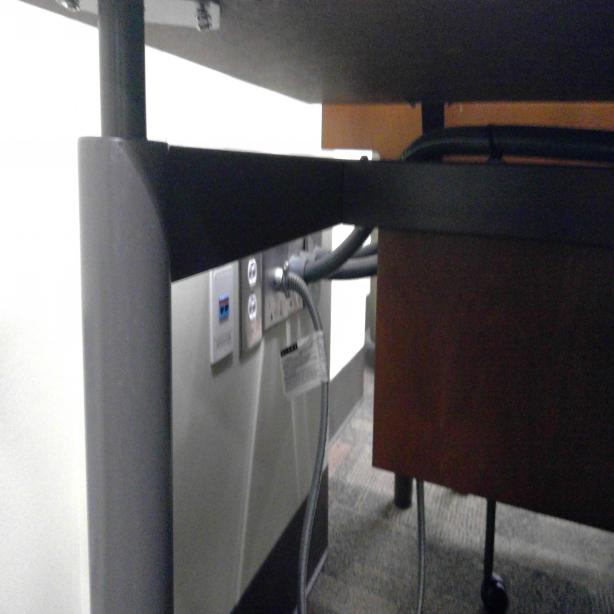typeb: (247, 294, 259, 320), (248, 258, 258, 284)
